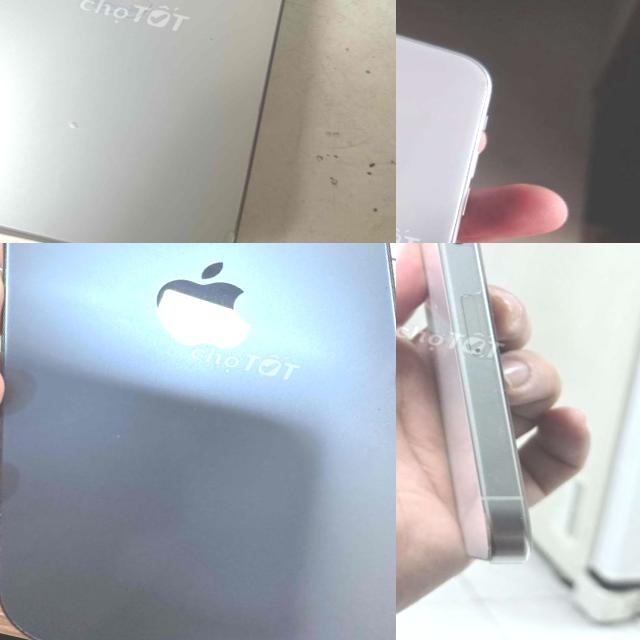gen_15: (0, 243, 396, 640), (0, 0, 363, 243)
gen_16: (420, 243, 530, 562)
gen_7_8: (396, 0, 514, 243)
